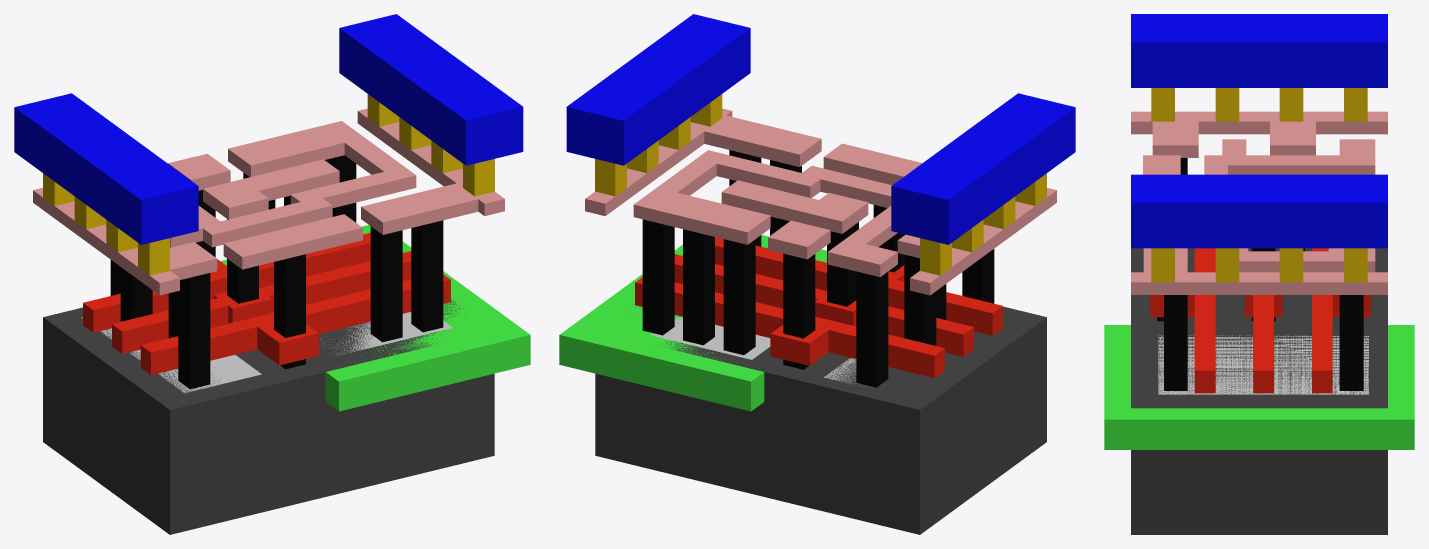
The model's file is sky130_fd_sc_hd__nor3_1.obj.
3 renders of one model, left to right at view 1: azimuth 30°, elevation 25°; view 2: azimuth 150°, elevation 25°; view 3: azimuth 270°, elevation 25°, orthographic.
Visible parts, largest first — view 1: subs, metal1, li, licon, poly, nwell, mcon, diff, tap; view 2: subs, metal1, li, licon, poly, nwell, mcon, tap; view 3: subs, metal1, li, nwell, poly, mcon, tap, licon.
Part boxes in pixels (bbox=[...]): subs: bbox=[43, 299, 494, 534]; metal1: bbox=[14, 14, 523, 244]; li: bbox=[33, 108, 504, 295]; licon: bbox=[110, 155, 443, 389]; poly: bbox=[83, 232, 450, 375]; nwell: bbox=[220, 225, 530, 411]; mcon: bbox=[43, 94, 494, 275]; diff: bbox=[81, 317, 261, 393]; tap: bbox=[320, 312, 452, 355]; subs: bbox=[595, 306, 1046, 534]; metal1: bbox=[566, 14, 1075, 244]; li: bbox=[585, 108, 1056, 295]; licon: bbox=[642, 150, 994, 387]; poly: bbox=[635, 237, 1002, 378]; nwell: bbox=[559, 235, 826, 411]; mcon: bbox=[595, 94, 1046, 275]; tap: bbox=[650, 315, 770, 359]; subs: bbox=[1131, 248, 1387, 534]; metal1: bbox=[1131, 14, 1387, 248]; li: bbox=[1131, 111, 1387, 294]; nwell: bbox=[1104, 325, 1414, 449]; poly: bbox=[1150, 248, 1370, 393]; mcon: bbox=[1151, 88, 1367, 282]; tap: bbox=[1158, 335, 1368, 394]; licon: bbox=[1157, 158, 1363, 390].
Size of the model in its own units: 3.2 by 2.74 by 2.22.
